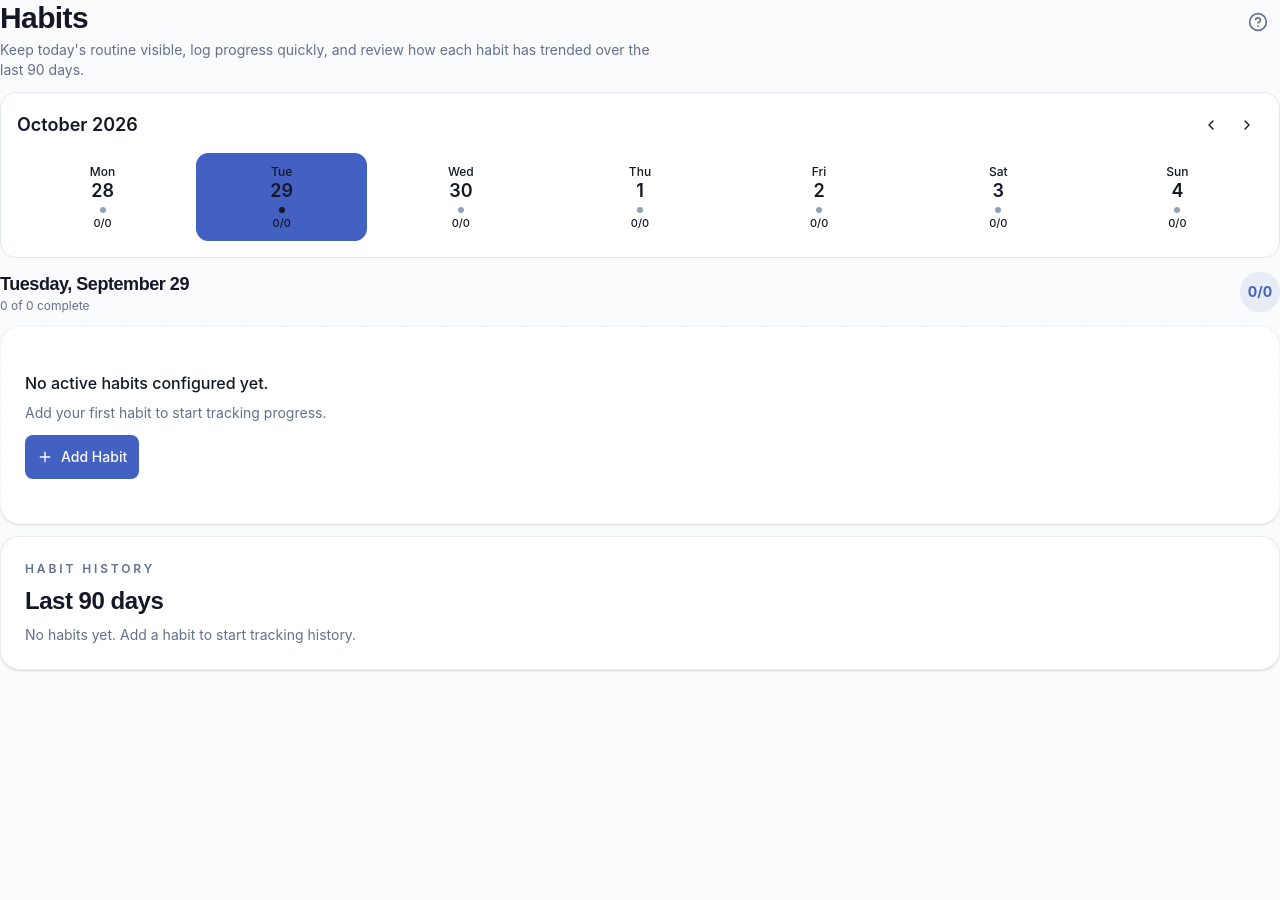
it: HabitsPage › shows inline add controls when there are no habits
Expected: the text "No active habits configured yet." is shown, [25,373,268,393]
Click the button "Add Habit": (82, 457) [25,435,139,479]
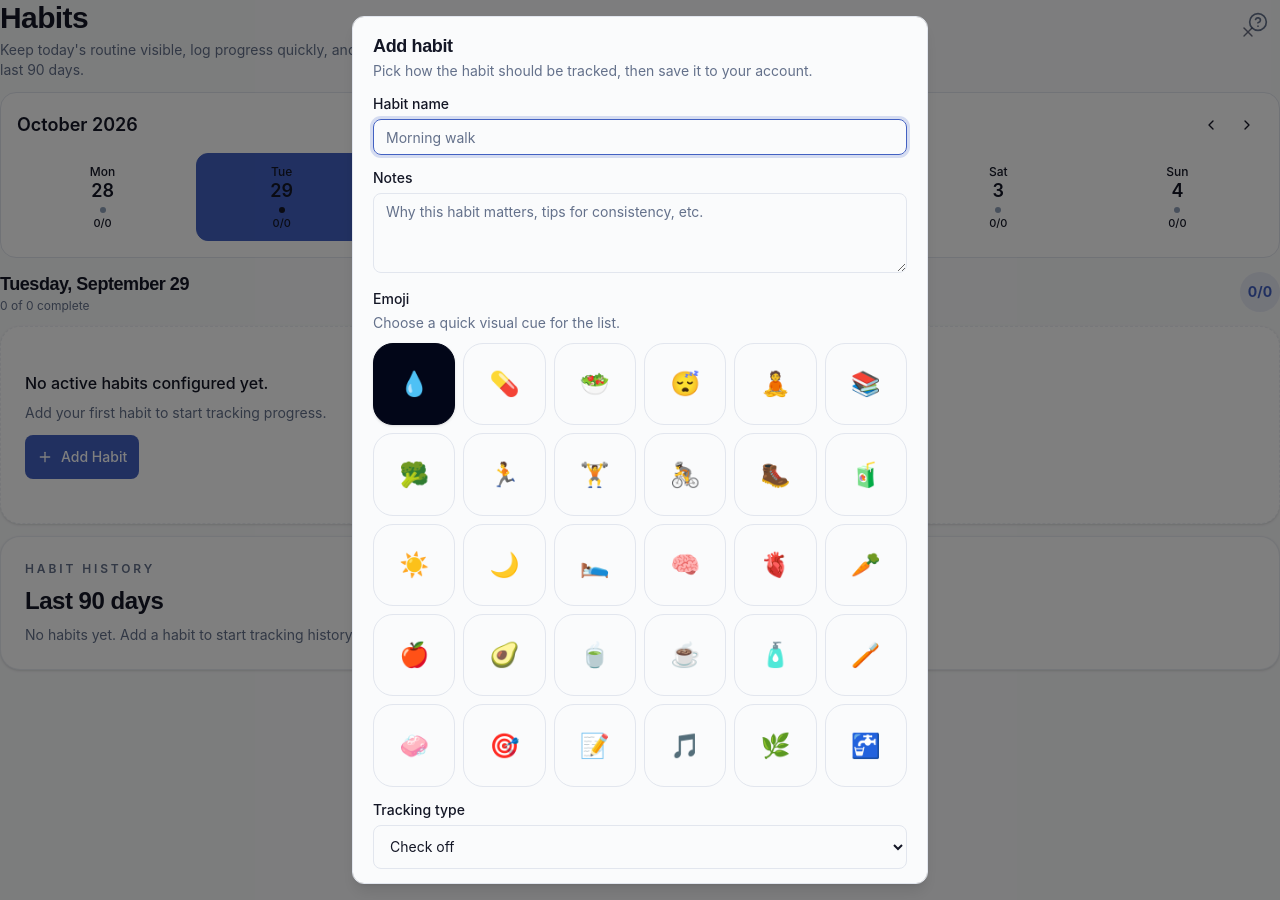
Result: the heading "Add habit" is shown at [373,36,453,56]
